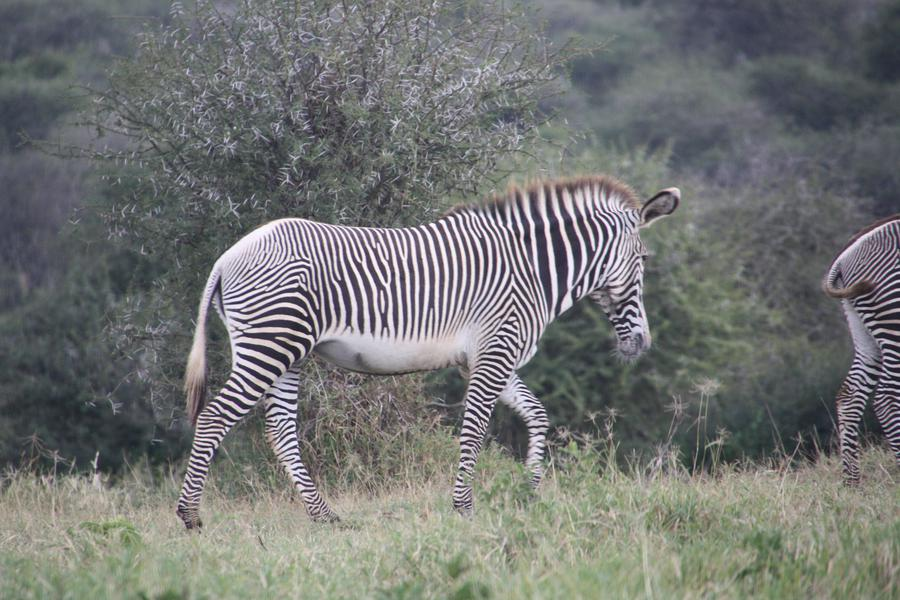zebra_grevys: (220, 210, 533, 357)
